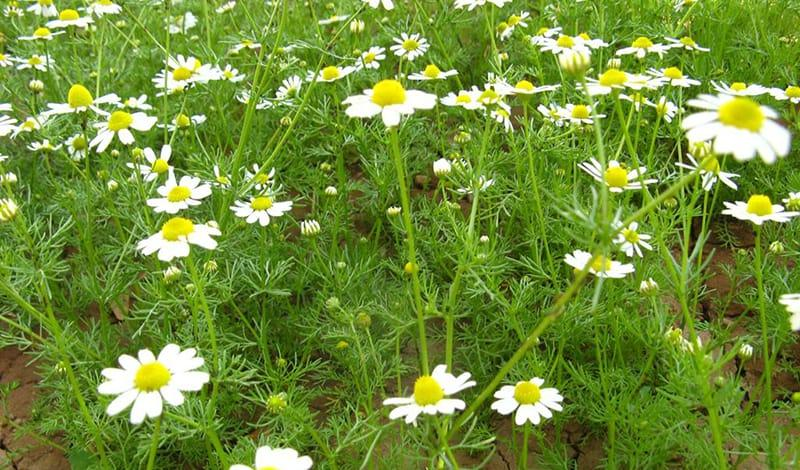chamomile: (104, 334, 215, 429), (655, 100, 799, 170), (387, 348, 469, 431), (331, 80, 443, 132), (141, 208, 228, 265), (151, 50, 245, 99), (219, 432, 335, 470), (571, 160, 669, 201), (551, 246, 645, 286), (497, 14, 587, 55), (46, 76, 115, 124), (15, 10, 103, 47), (138, 176, 231, 210), (495, 386, 568, 423), (93, 108, 155, 151), (725, 198, 800, 227), (241, 196, 301, 230), (383, 22, 429, 62), (12, 50, 71, 81), (125, 152, 181, 180), (349, 44, 402, 73), (157, 10, 208, 35)
